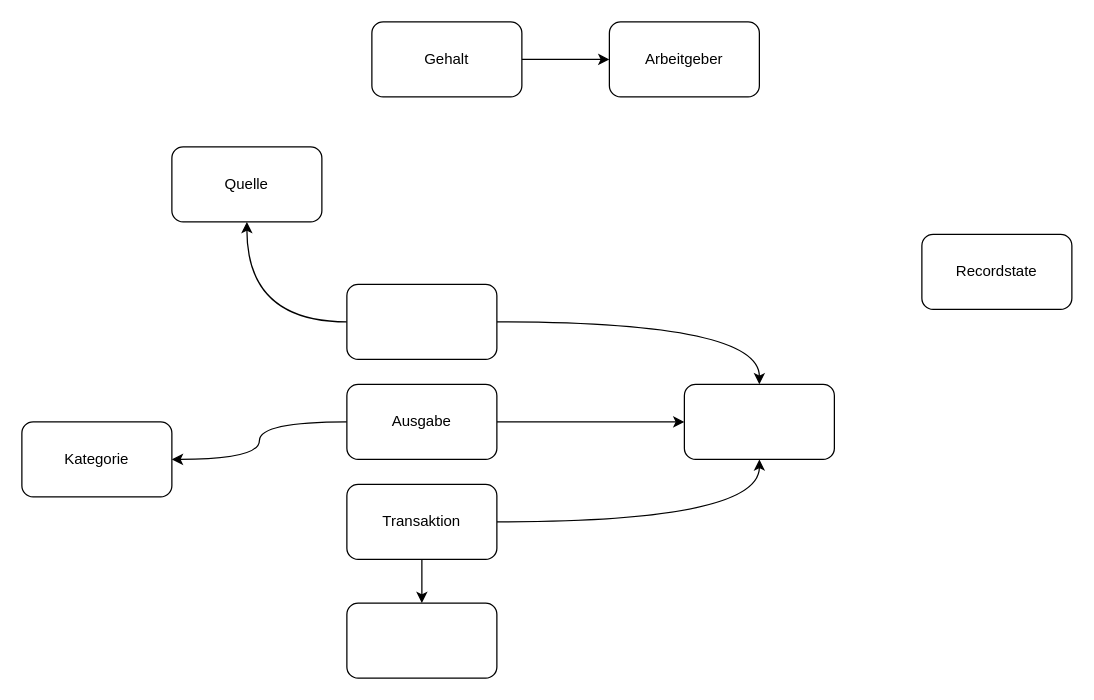
This 1094x700 diagram has some shape labels left out. The shapes that lost their labels are listed below. From the top down, each one's centre as x and y in pixels, then its label:
At [421,321]: "Einnahme".
At [758,421]: "Konto".
At [421,640]: "Schuldner".
